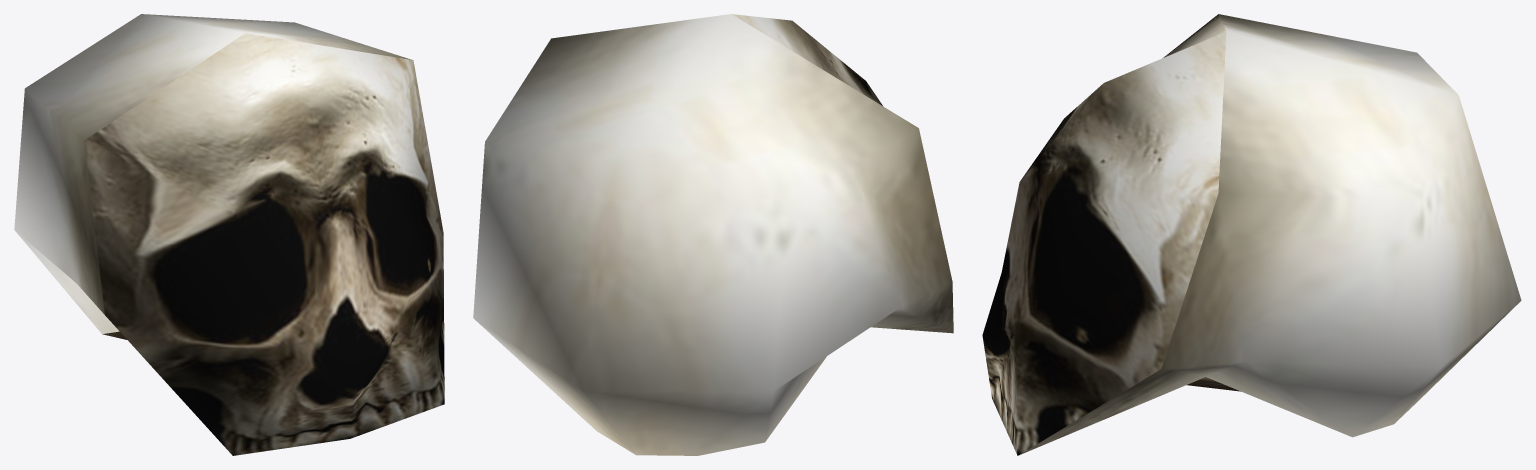
The model's file is skull_GEO.fbx.
3 views of the same model, side by side, from view 1: azimuth 30°, elevation 25°; view 2: azimuth 150°, elevation 25°; view 3: azimuth 270°, elevation 25° (orthographic). The views are drawn at different scales.
Visible parts, largest first — view 1: skull_GEO; view 2: skull_GEO; view 3: skull_GEO.
Part boxes in pixels (x1,y1,x2,y2): skull_GEO: (14, 14, 444, 455); skull_GEO: (473, 14, 953, 455); skull_GEO: (982, 14, 1521, 455).
Bounding box in the file's own units: 0.3386 × 0.3182 × 0.4183.
